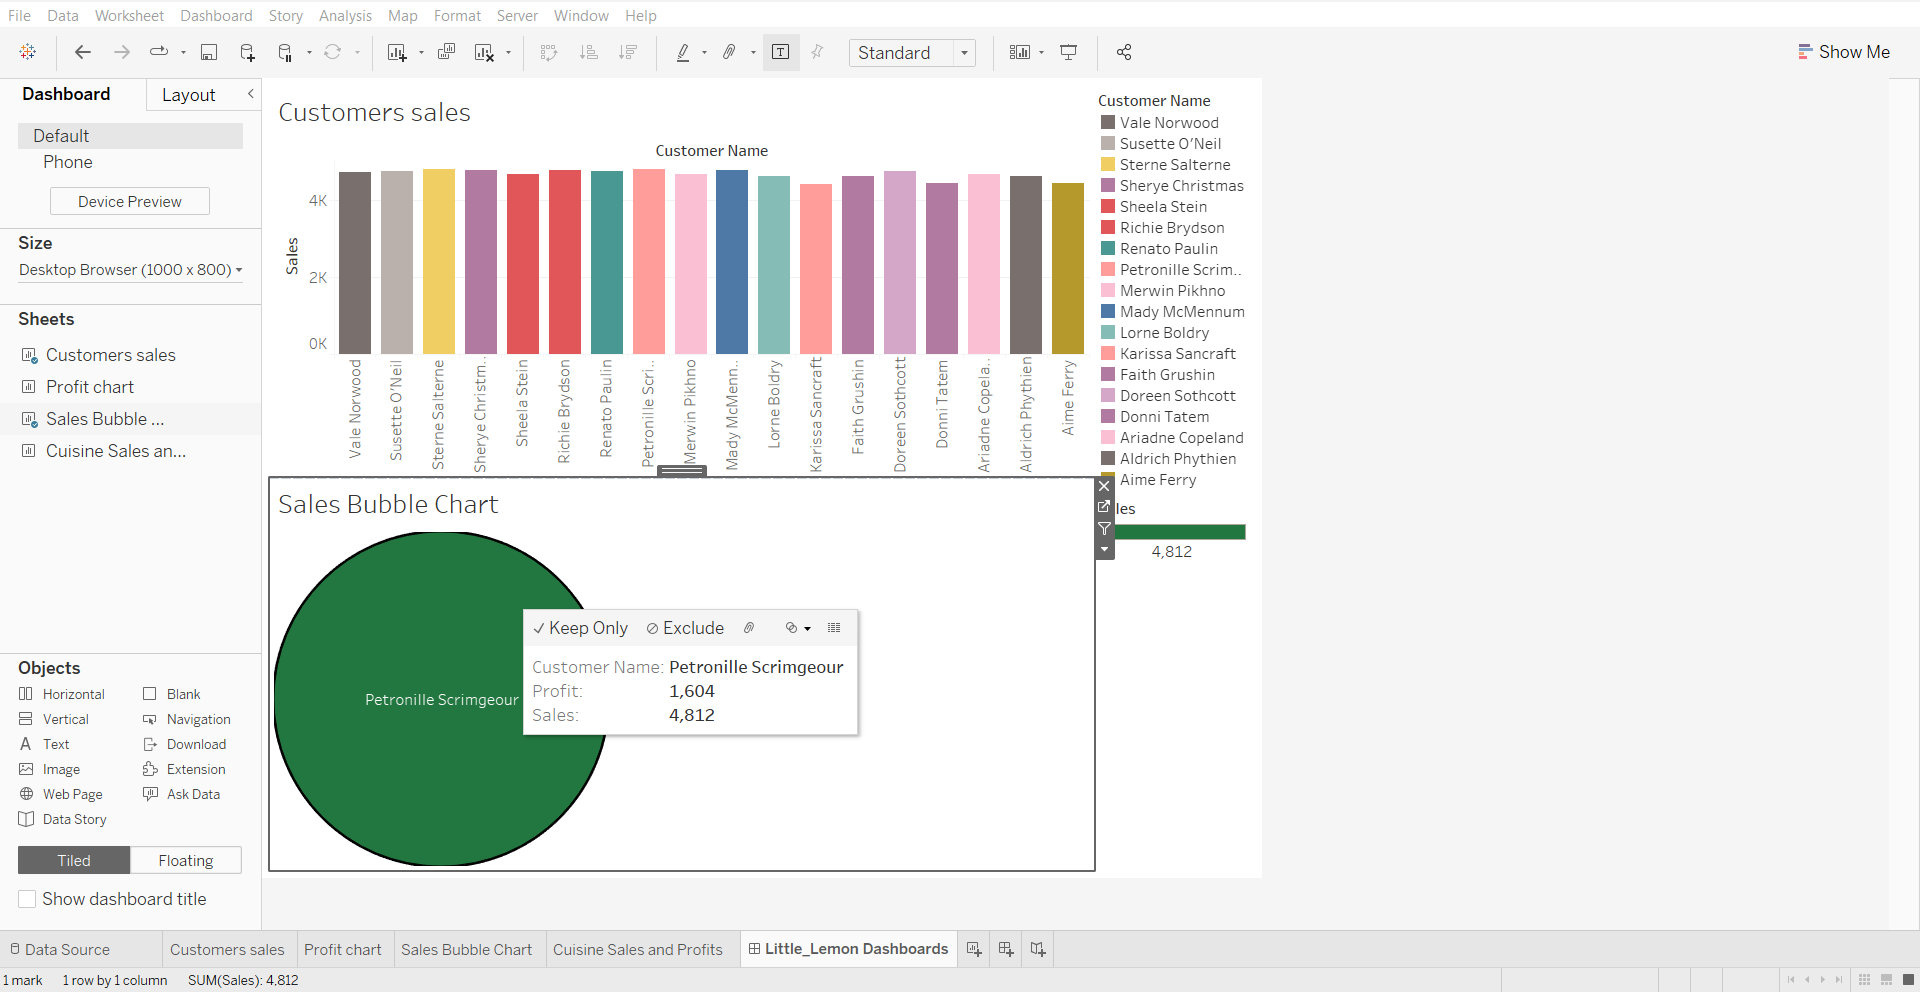

What the dashboard file says about the page in this screenshot:
{"tool":"tableau","page":{"name":"Little_Lemon Dashboards","canvas":[1000,800],"ordinal":0},"visuals":[{"type":"worksheet","title":"Customers sales","mark":"Bar","rows":["Sales"],"cols":["Customer Name"],"box":[8,8,824,392]},{"type":"legend","title":"Customers sales","param":"[federated.14zbvrz16rhdic1ba7vhg1w1bqru].[none:Customer Name:nk]","box":[832,8,160,408]},{"type":"worksheet","title":"Sales Bubble Chart","mark":"Circle","box":[8,400,824,392]},{"type":"legend","title":"Sales Bubble Chart","param":"[federated.14zbvrz16rhdic1ba7vhg1w1bqru].[sum:Sales:qk]","box":[832,416,160,73]}]}

Visuals, with their boxes on the page's 1000x800 design canvas (x1, y1, x2, y2). These are canvas units, not pixel positions in the 1920x992 screenshot, which may show the page scaled, cropped or inside an application window:
"Customers sales" worksheet (Bar marks): left=8, top=8, right=832, bottom=400
"Customers sales" legend: left=832, top=8, right=992, bottom=416
"Sales Bubble Chart" worksheet (Circle marks): left=8, top=400, right=832, bottom=792
"Sales Bubble Chart" legend: left=832, top=416, right=992, bottom=489
